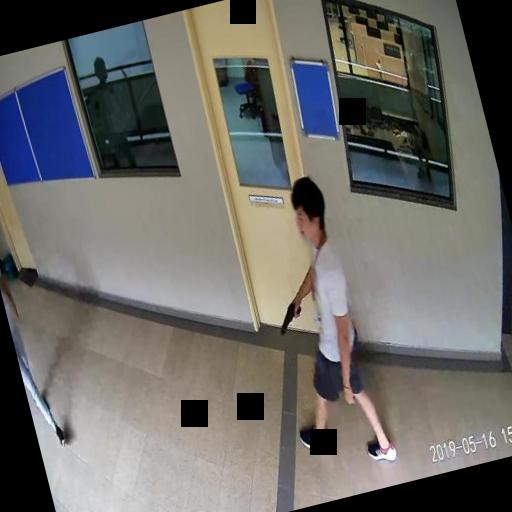Handgun: (272, 294, 304, 334)
